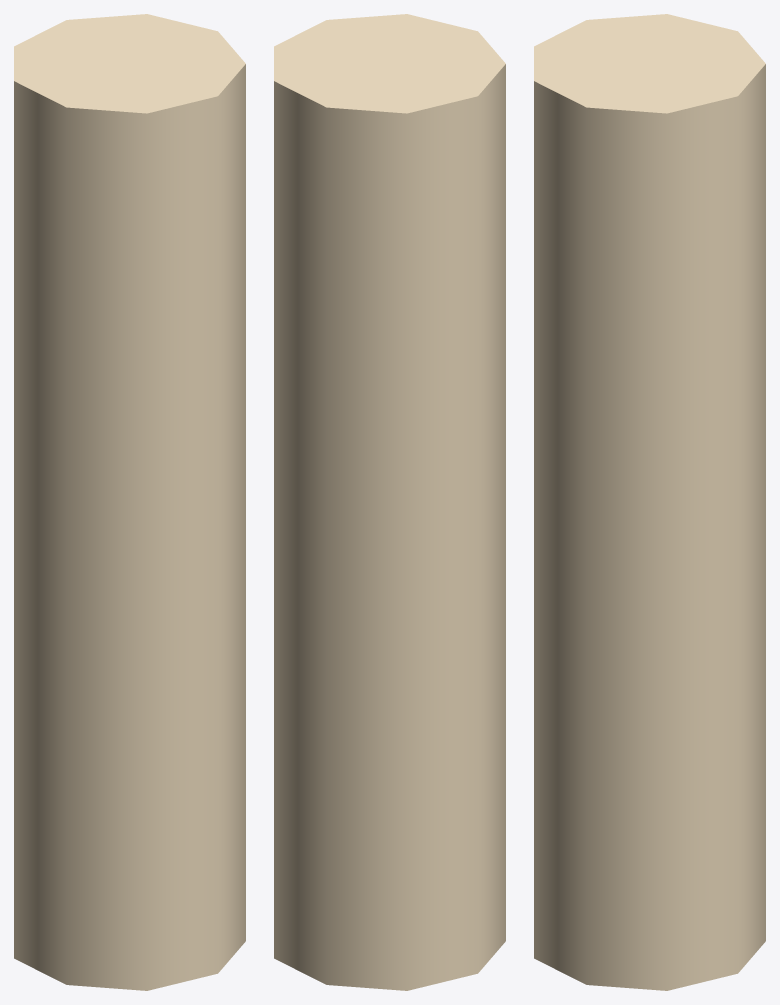
The model's file is RoomPillar.FBX.
The picture shows the model from 3 angles, left to right: view 1: azimuth 30°, elevation 25°; view 2: azimuth 150°, elevation 25°; view 3: azimuth 270°, elevation 25°; orthographic projection.
Parts seen in each view (by area): view 1: Room_Pillar; view 2: Room_Pillar; view 3: Room_Pillar.
Part boxes in pixels (x1,y1,x2,y2): Room_Pillar: [14, 14, 245, 990]; Room_Pillar: [274, 14, 505, 990]; Room_Pillar: [534, 14, 765, 990].
Bounding box in the file's own units: 0.6562 × 2.7 × 0.6463.
